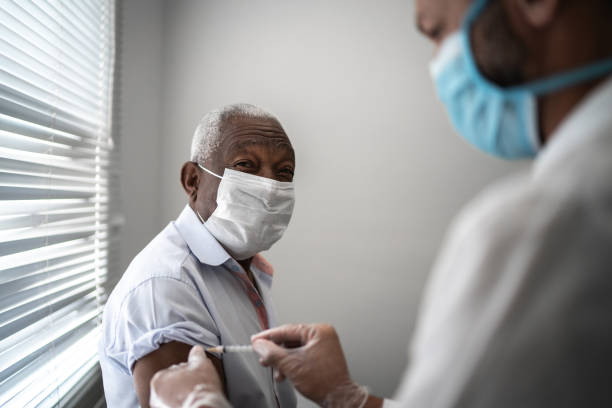with mask: (409, 1, 596, 172), (179, 89, 303, 258)
